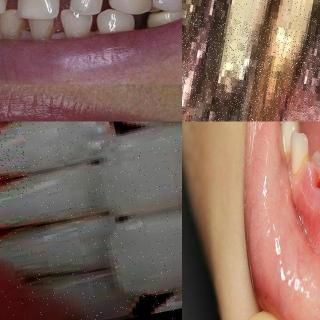Gum Swelling: (296, 160, 320, 214)
calculus: (182, 0, 277, 92), (241, 0, 307, 122), (36, 19, 59, 43)
maligned: (306, 147, 320, 191)
stains: (289, 150, 307, 178)
